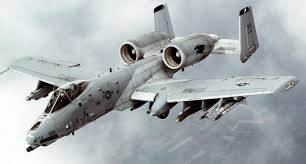fighter: (1, 3, 299, 155)
